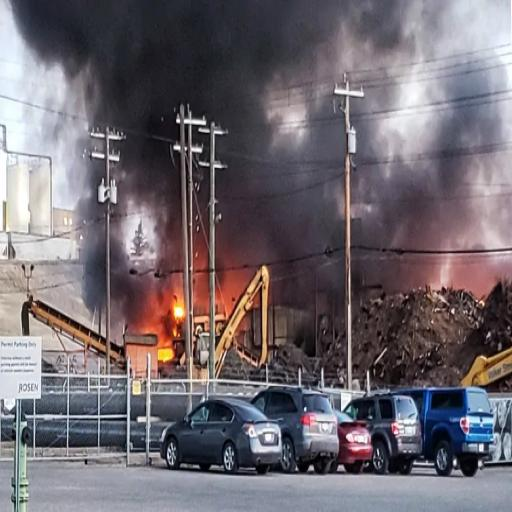fire: (169, 293, 186, 338)
